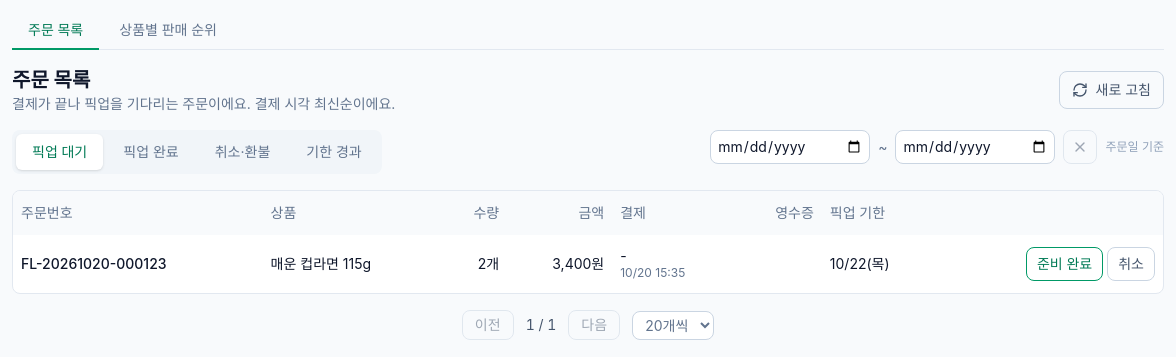
Test: 점주 주문 목록 (S-50·A5·A6) › 시작 날짜가 끝 날짜보다 늦으면 안내만 띄우고 목록을 부르지 않는다
expect the text "FL-20261020-000123" is shown: met, box x1=13 y1=235 x2=263 y2=293
Step 1. Type "2026-10-10" into the date field named "끝 날짜" → (975, 147), box x1=895 y1=130 x2=1055 y2=164
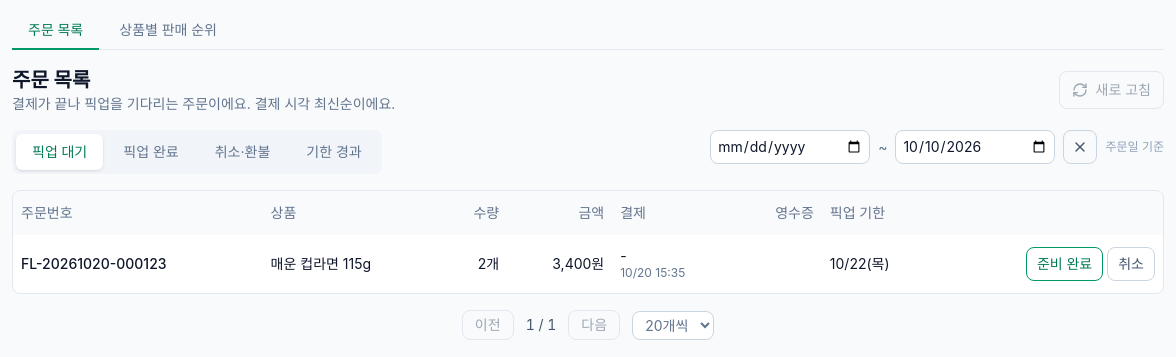
Step 2. Type "2026-10-20" into the date field named "시작 날짜" → (790, 147), box x1=710 y1=130 x2=870 y2=164
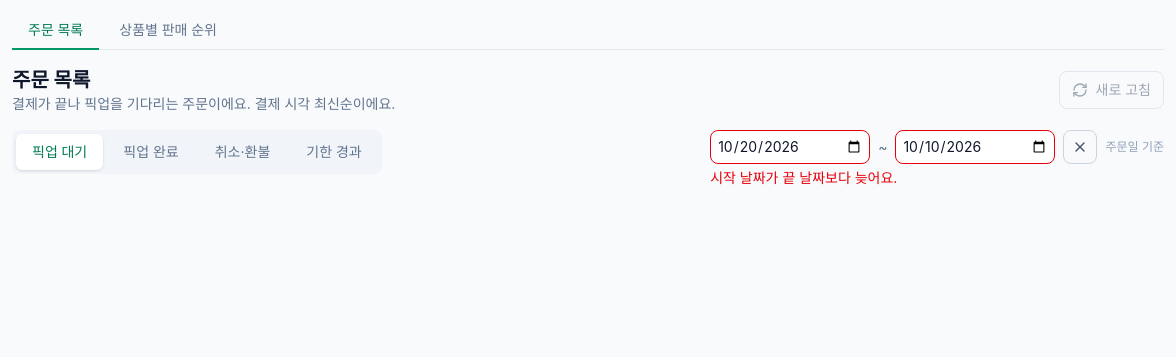
expect the button "새로 고침" is disabled: met, box x1=1058 y1=71 x2=1164 y2=109
expect the message reads "시작 날짜가 끝 날짜보다 늦어요.": met, box x1=710 y1=169 x2=897 y2=186
expect the text "FL-20261020-000123" is gone: met
